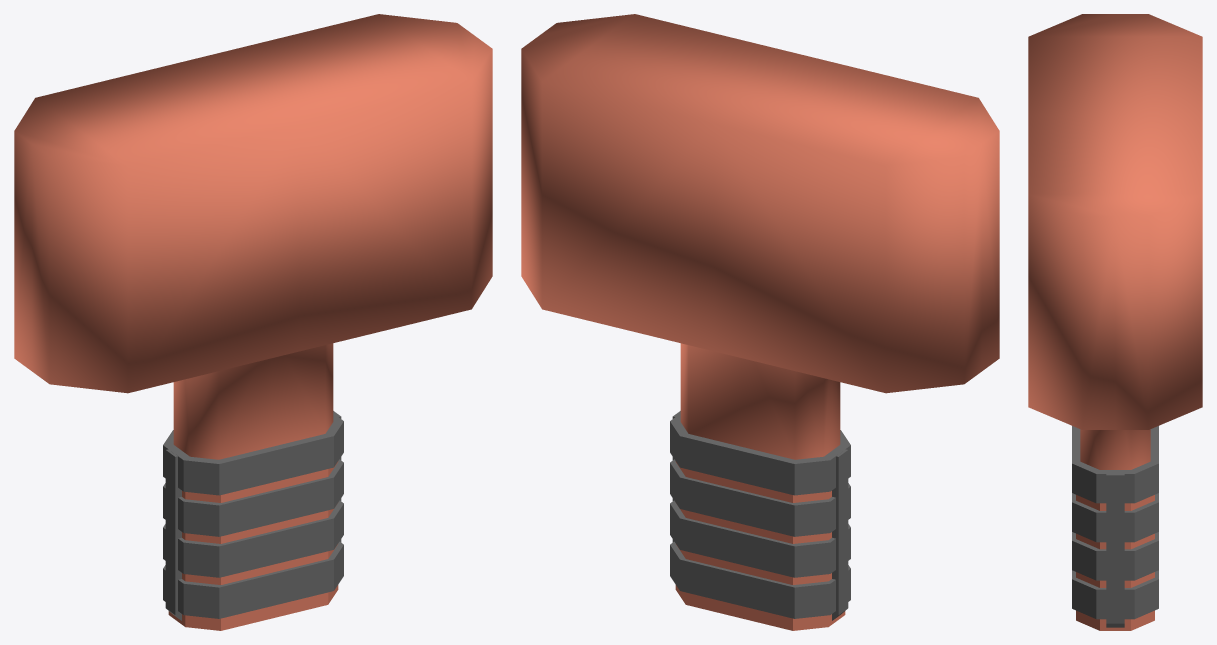
File: EnemyBase.fbx
3 renders of one model, left to right at view 1: azimuth 30°, elevation 25°; view 2: azimuth 150°, elevation 25°; view 3: azimuth 270°, elevation 25°, orthographic. The views are drawn at different scales.
Parts seen in each view (by area): view 1: HangarExteriorWalls, Hangar; view 2: HangarExteriorWalls, Hangar; view 3: HangarExteriorWalls, Hangar.
Boxes of the visible parts, x1,y1,x2,y2 form: HangarExteriorWalls: (14, 14, 492, 459); Hangar: (163, 411, 343, 630); HangarExteriorWalls: (521, 14, 999, 459); Hangar: (670, 411, 850, 630); HangarExteriorWalls: (1028, 14, 1202, 469); Hangar: (1072, 426, 1158, 630).
Bounding box in the file's own units: 939 × 1038 × 341.
